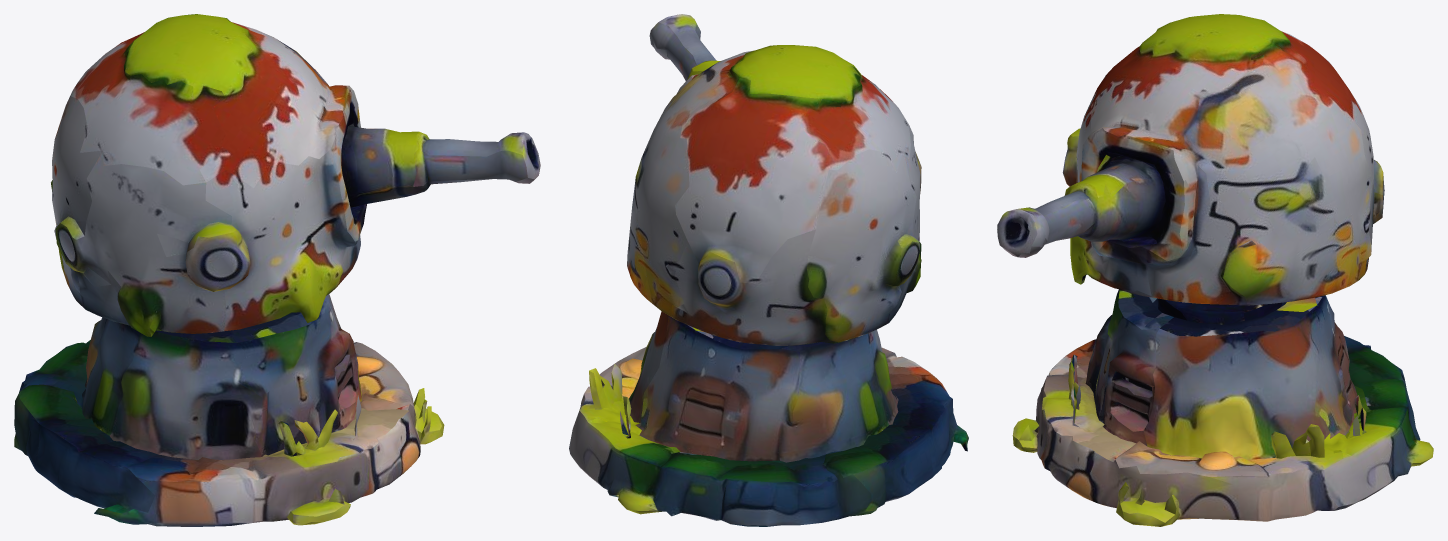
File: sentry.glb
3 views of the same model, side by side, from view 1: azimuth 30°, elevation 25°; view 2: azimuth 150°, elevation 25°; view 3: azimuth 270°, elevation 25° (orthographic). The views are drawn at different scales.
Visible parts, largest first — view 1: sentry_s41; view 2: sentry_s41; view 3: sentry_s41.
Part boxes in pixels (box(x1,y1,x2,y2)): sentry_s41: box(14, 14, 540, 526); sentry_s41: box(569, 14, 968, 526); sentry_s41: box(997, 14, 1433, 526).
Size of the model in its own units: 0.9768 by 1 by 0.9753.
1 material, 1 textured.
